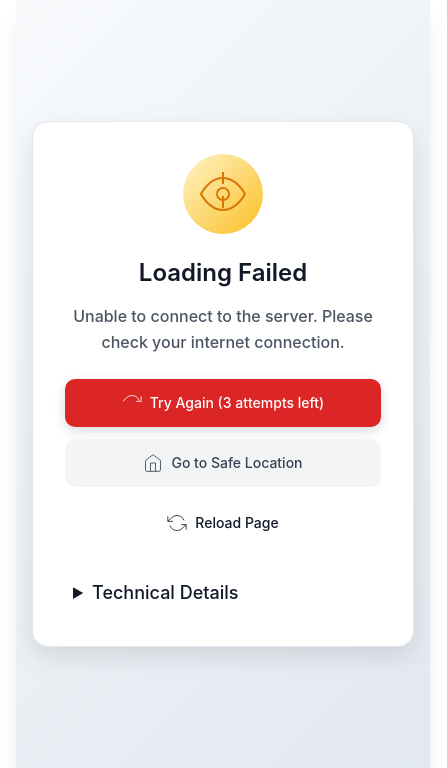
Scenario: LoadingErrorBoundary › Technical Details › shows correct error type in technical details
The image size is (447, 768).
What coordinates should you click on to do the following:
click the heading "Technical Details"
I would click on:
 (165, 593)
Its box is [92,582,238,603].
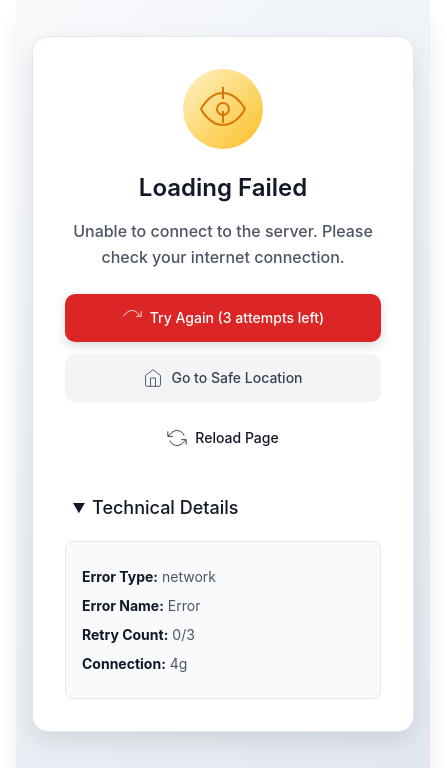
Now the text "network" is shown, box [162,568,216,585]
